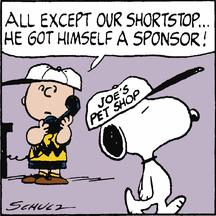charlie: (0, 62, 84, 188)
snoopy: (88, 67, 209, 216)
